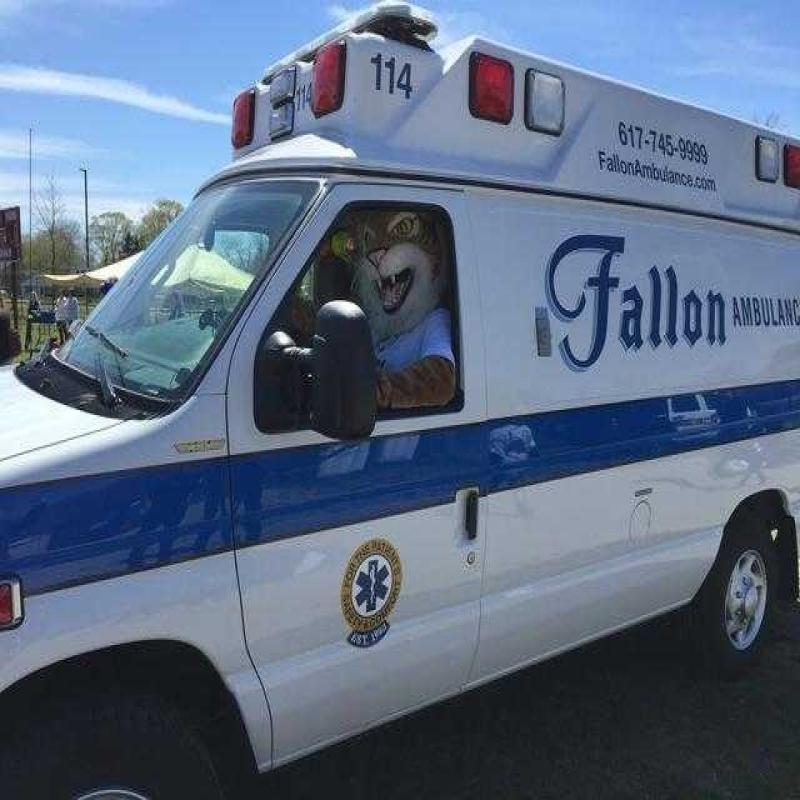AmbulanceSiren: (193, 48, 403, 137)
